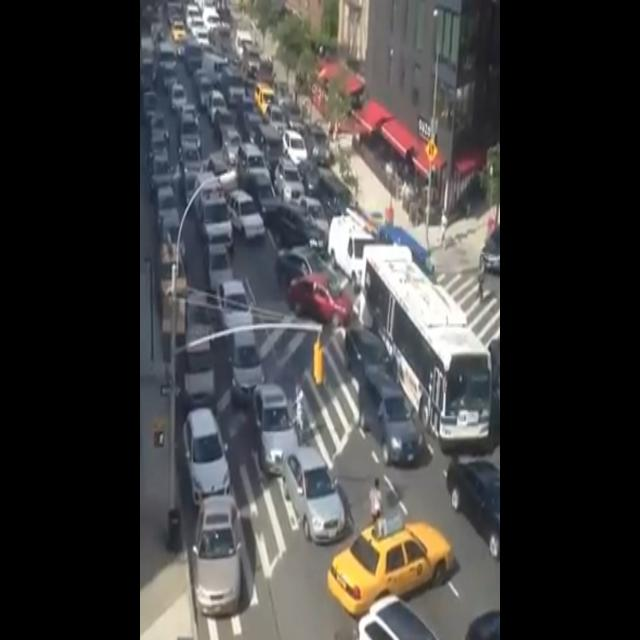Ambulance: (192, 166, 238, 252)
